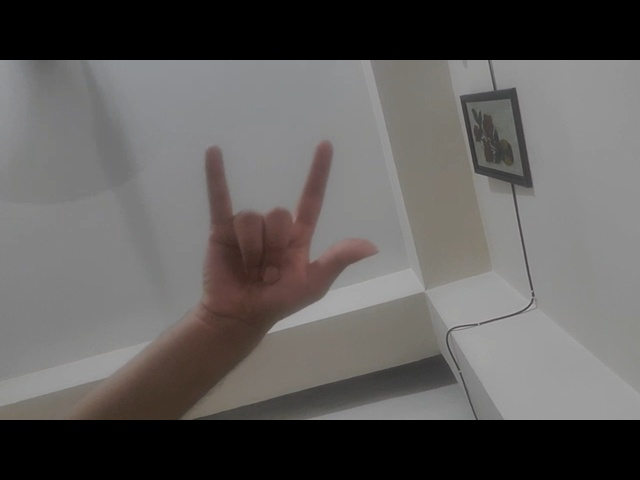I love you: (163, 128, 394, 326)
